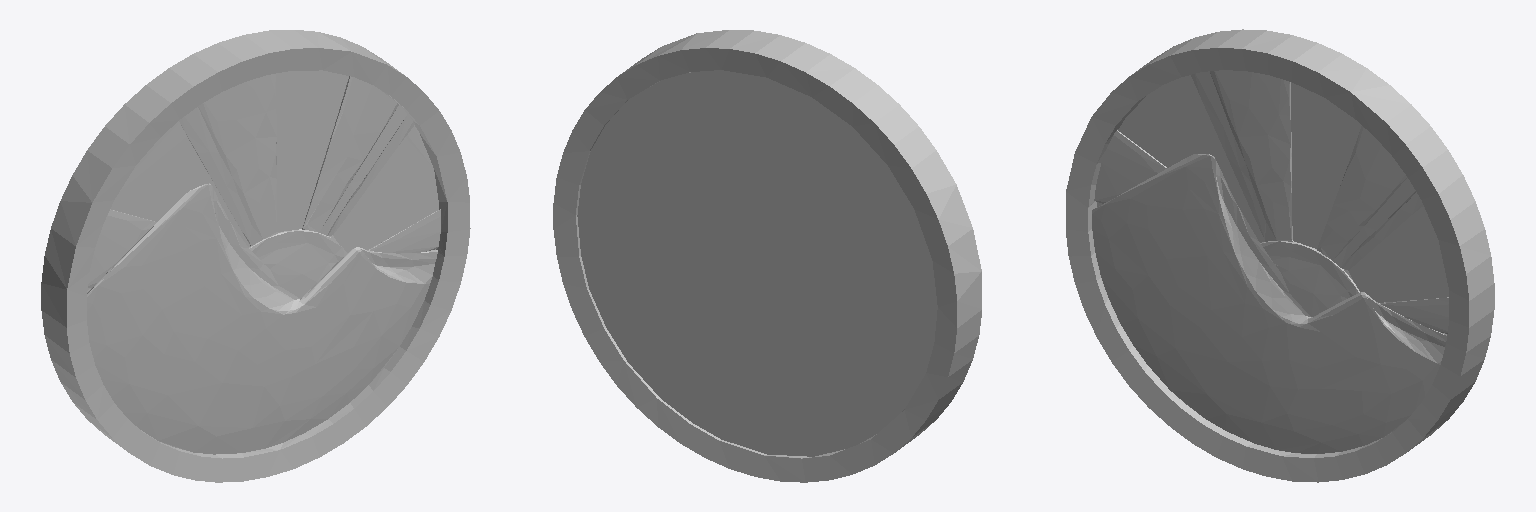
Rendered from Skooter Badge v6 Fix.obj.
3 renders of one model, left to right at view 1: azimuth 30°, elevation 25°; view 2: azimuth 150°, elevation 25°; view 3: azimuth 330°, elevation 25°, orthographic.
Parts seen in each view (by area): view 1: Skooter_Badge_fixed; view 2: Skooter_Badge_fixed; view 3: Skooter_Badge_fixed.
Boxes of the visible parts, x1=… form: Skooter_Badge_fixed: x1=41, y1=30, x2=470, y2=482; Skooter_Badge_fixed: x1=553, y1=30, x2=981, y2=482; Skooter_Badge_fixed: x1=1066, y1=29, x2=1494, y2=482.
Bounding box in the file's own units: 1.89 × 1.9 × 0.2048.